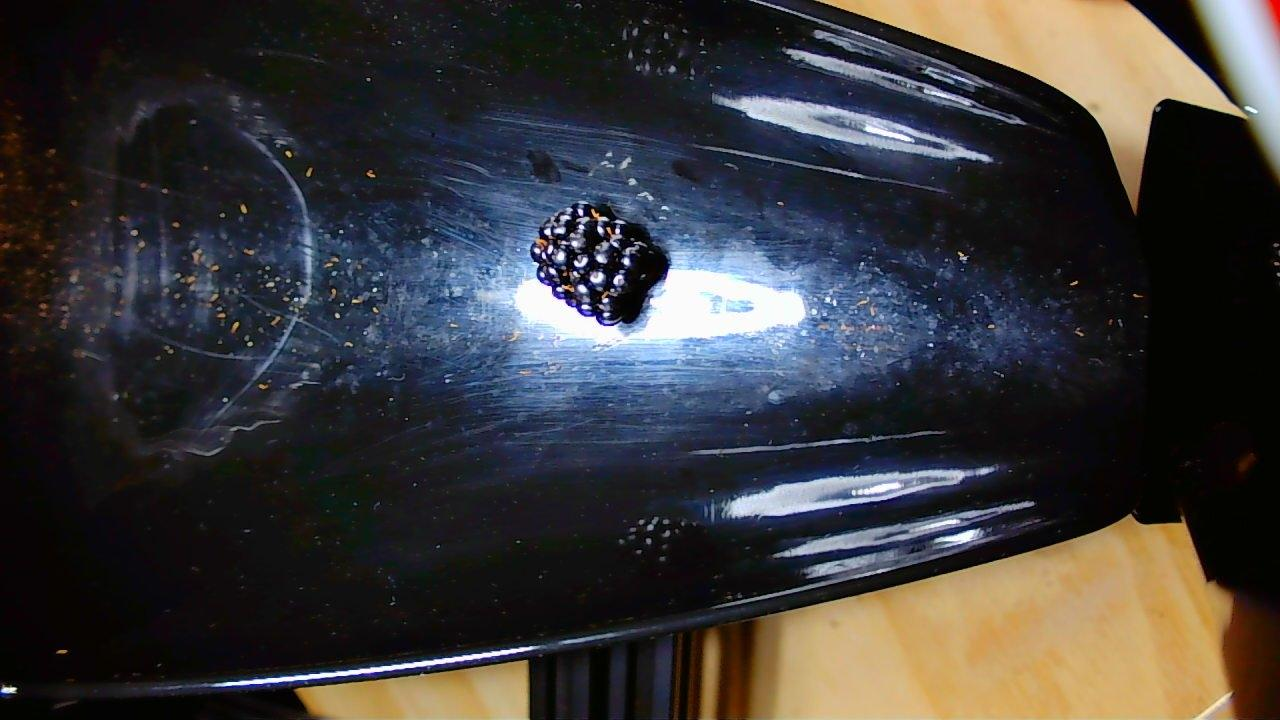berry: (533, 202, 662, 322)
